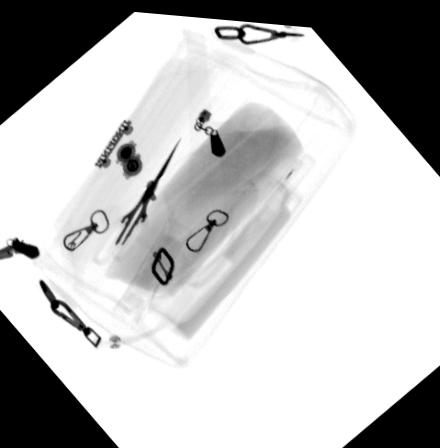Scissors: (86, 129, 180, 267)
